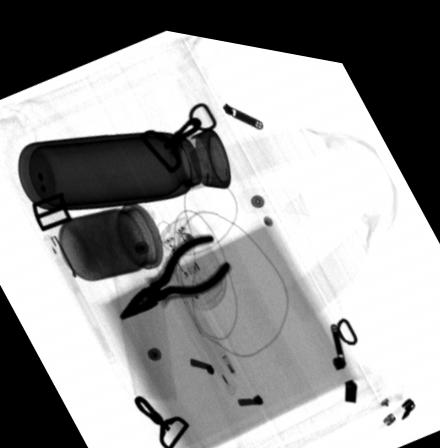Pliers: (117, 225, 232, 318)
